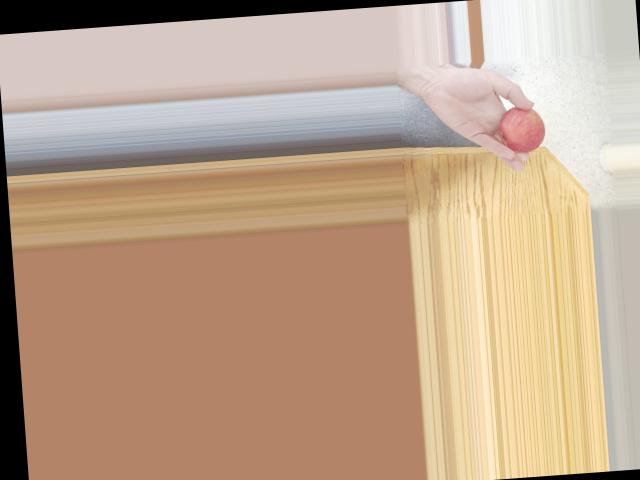apple: (491, 103, 548, 155)
